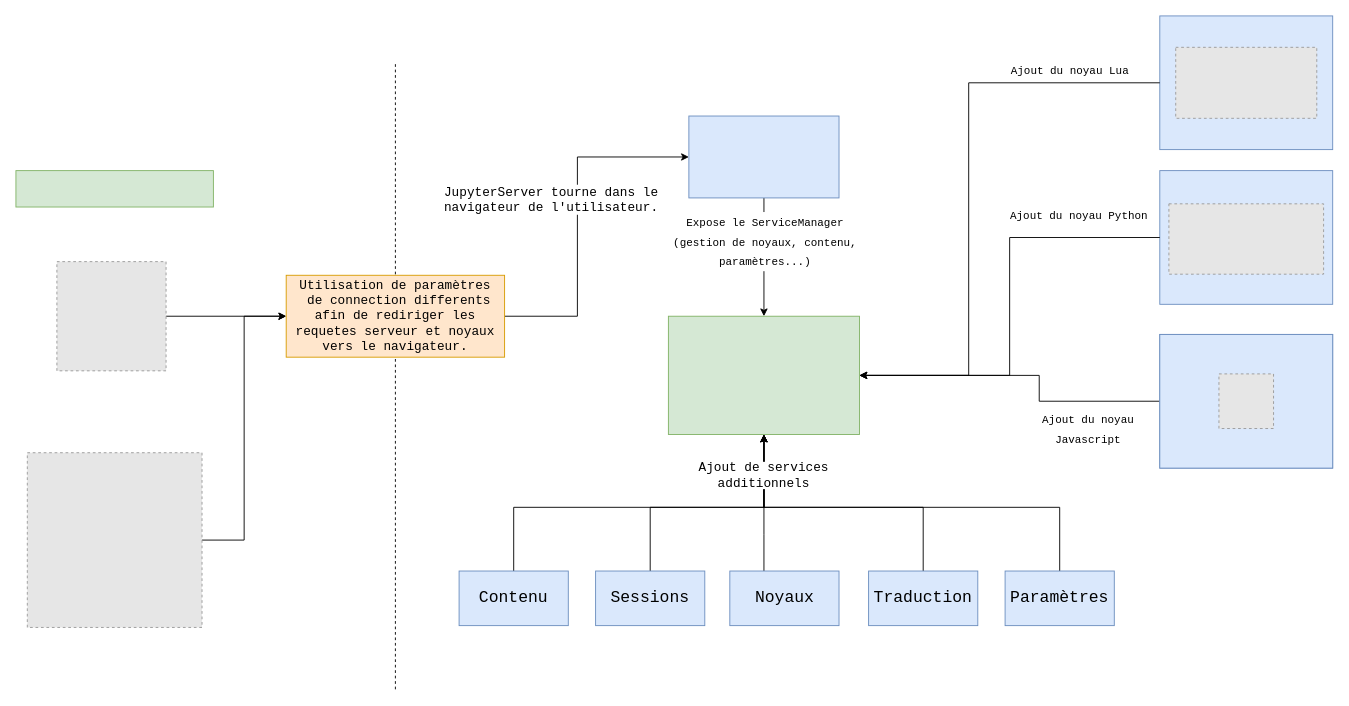
This 1349x706 diagram has some shape labels left out. Grey dashed boxes stand in for pictures. Each missing label, with the centre of its shape:
"Interfaces" belongs at pixel 114 188.
"JupyterLiteServer (Application Lumino sans composant graphique)" belongs at pixel 763 375.
"JupyterServer" belongs at pixel 763 156.
